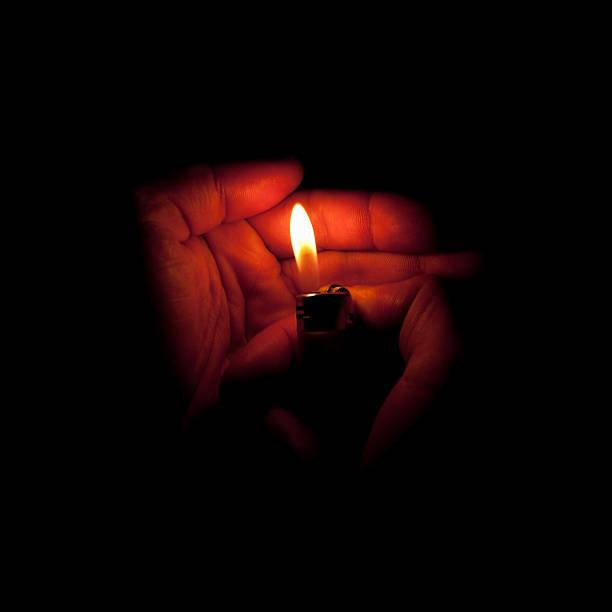Fire: (284, 196, 326, 295)
